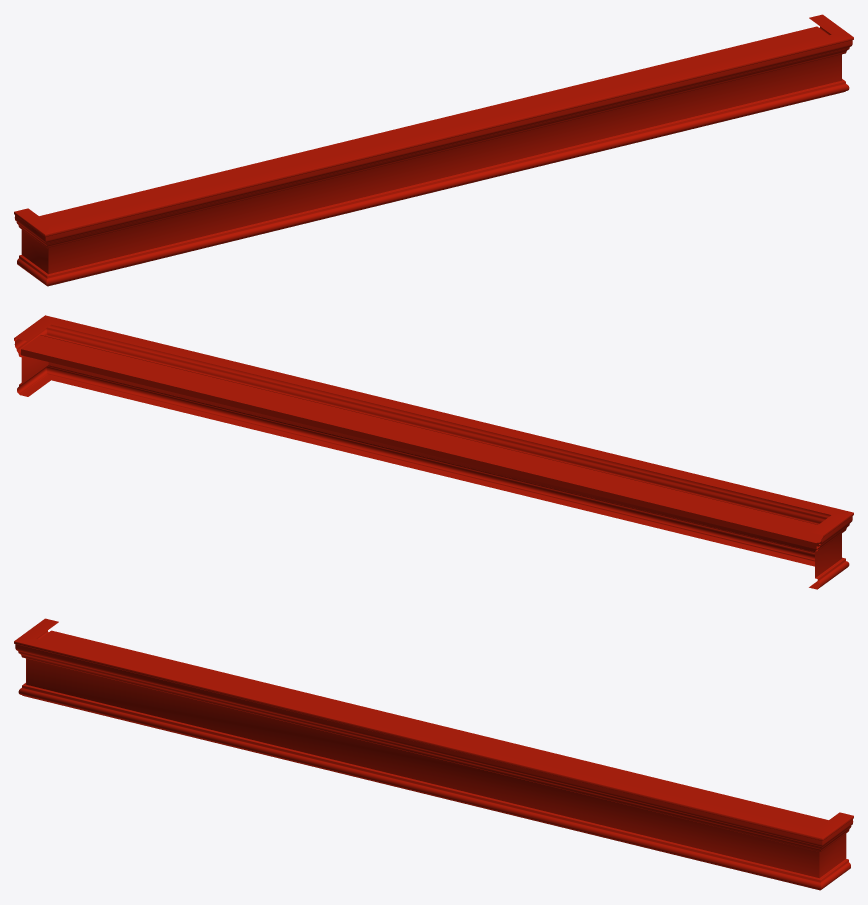
File: Bar.fbx
The picture shows the model from 3 angles, top to bottom: view 1: azimuth 30°, elevation 25°; view 2: azimuth 150°, elevation 25°; view 3: azimuth 330°, elevation 25°; orthographic projection.
Parts seen in each view (by area): view 1: SM_cornice_D60; view 2: SM_cornice_D60; view 3: SM_cornice_D60.
Part boxes in pixels (x1,y1,x2,y2): SM_cornice_D60: (14,14,853,286); SM_cornice_D60: (14,315,853,589); SM_cornice_D60: (14,618,853,890).
Size of the model in its own units: 78.72 by 5.17 by 5.26.
